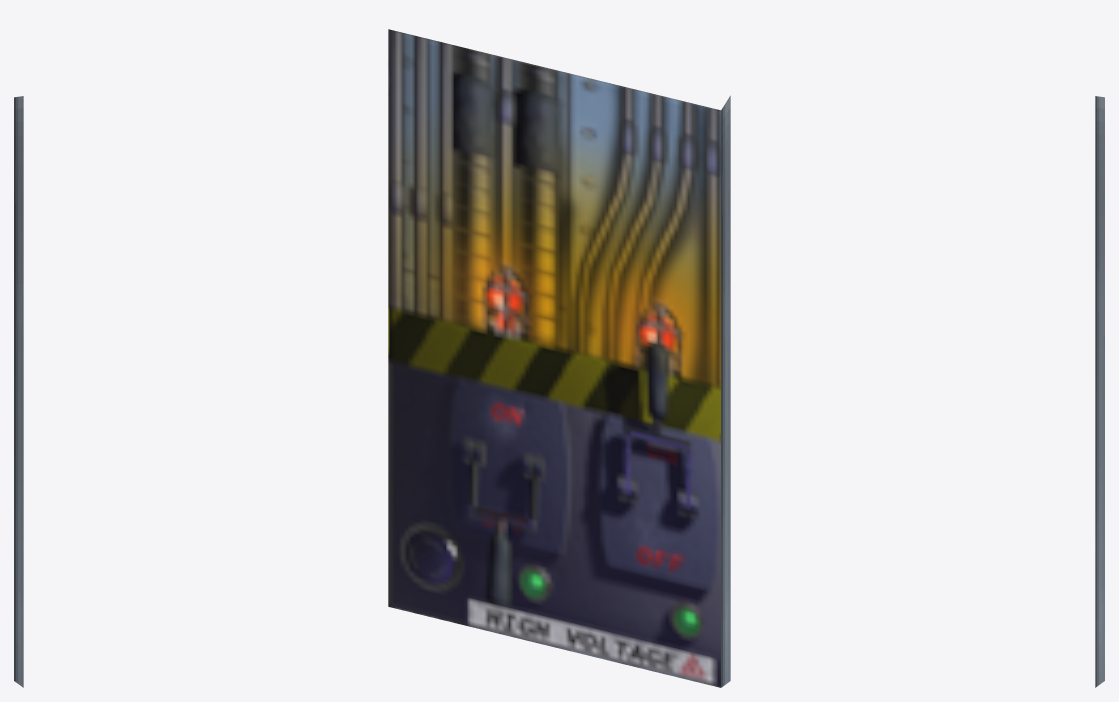
3 renders of one model, left to right at view 1: azimuth 30°, elevation 25°; view 2: azimuth 150°, elevation 25°; view 3: azimuth 330°, elevation 25°, orthographic.
Visible parts, largest first — view 1: Plane41; view 2: Plane41; view 3: Plane41.
Boxes of the visible parts, x1,y1,x2,y2 form: Plane41: (14, 96, 23, 687); Plane41: (388, 29, 730, 687); Plane41: (1095, 96, 1104, 687).
Bounding box in the file's own units: 250 × 421 × 12.36.
3 materials, 3 textured.
